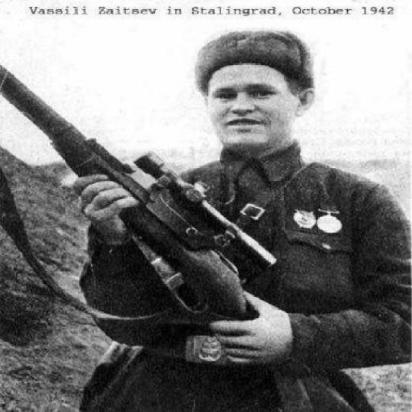Gun: (0, 66, 313, 374)
